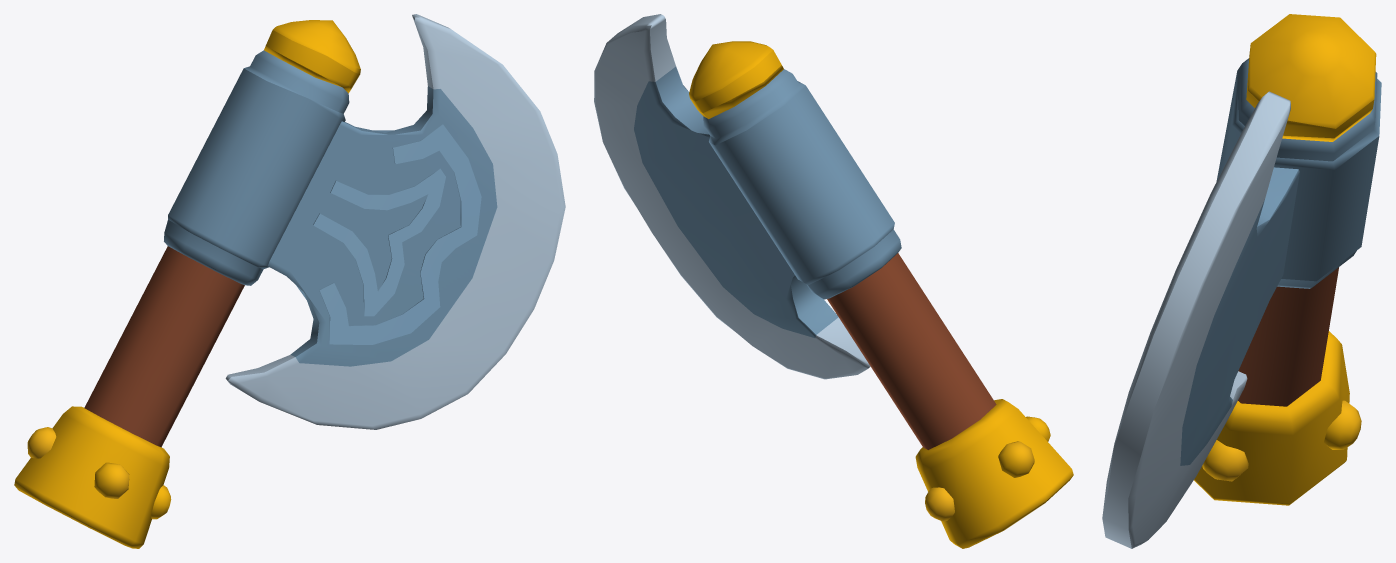
3 views of the same model, side by side, from view 1: azimuth 30°, elevation 25°; view 2: azimuth 150°, elevation 25°; view 3: azimuth 270°, elevation 25° (orthographic). The views are drawn at different scales.
Visible parts, largest first — view 1: model_1.015; view 2: model_1.015; view 3: model_1.015.
Boxes of the visible parts, x1=… form: model_1.015: x1=14, y1=14, x2=565, y2=548; model_1.015: x1=594, y1=14, x2=1073, y2=548; model_1.015: x1=1102, y1=14, x2=1381, y2=548.
Size of the model in its own units: 4.75 by 4.16 by 1.71.
